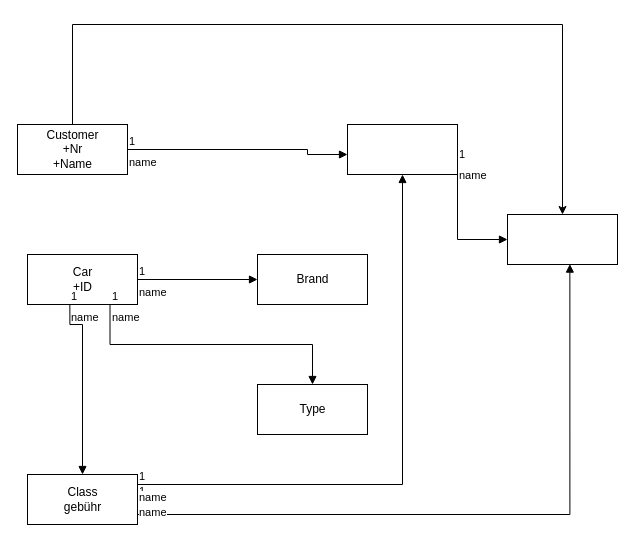
Some shapes in this 635 by 542 pixel diagram are drawn without their labels. Here are the shapes that lost their labels. From the top down, the centre of each, then its label:
At point 402,149: "Reservation +Nr +Days +Total".
At point 562,239: "Contracts +Nr".
